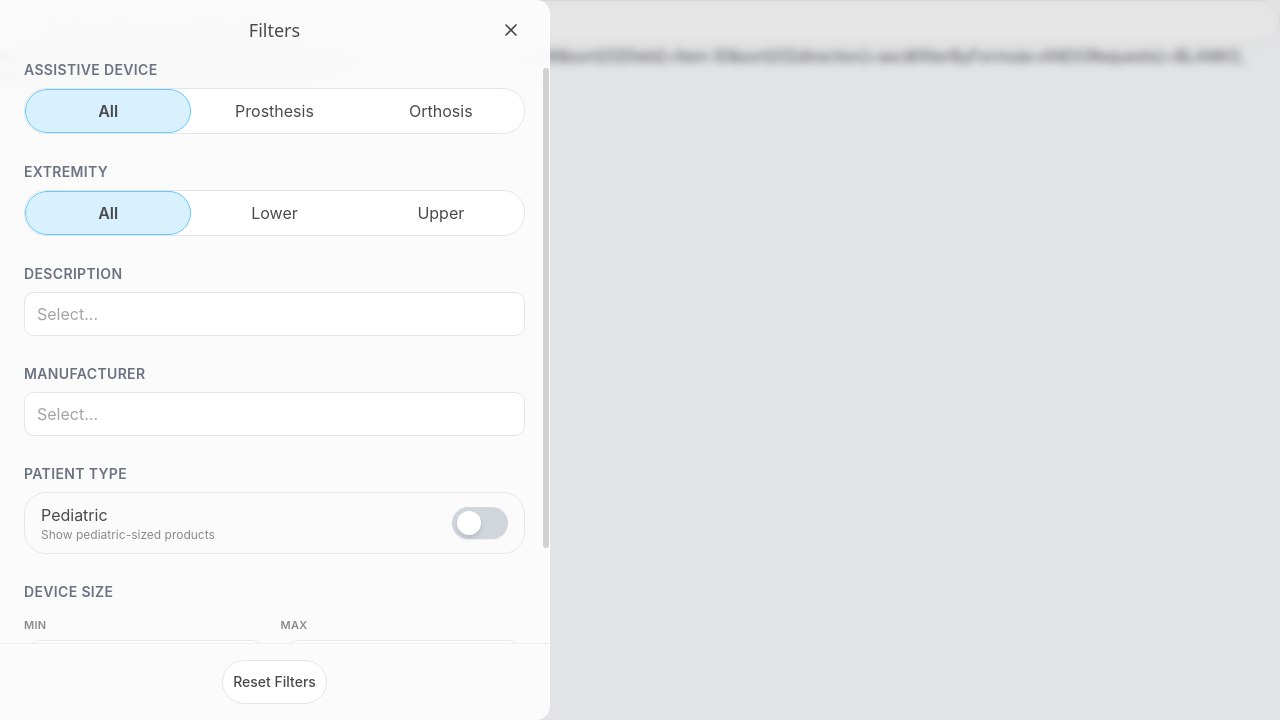
Filter integration → Airtable query › assistive device + lower extremity + part → tag, limb guide, and non-arm conditions
Expected: the text "Assistive Device" is shown, [24, 61, 158, 78]
Click the button "Prosthesis" at (274, 111), box [191, 89, 358, 133]
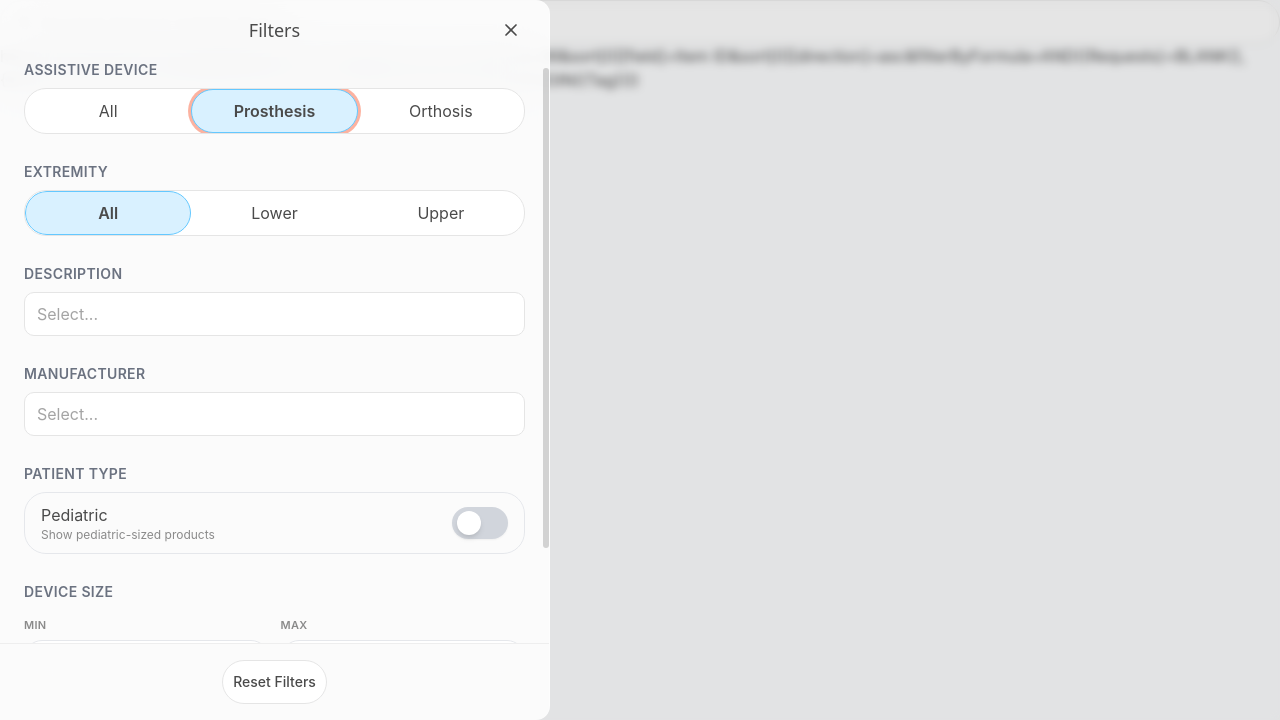
Expected: the text "Extremity" is shown, [24, 163, 108, 180]
Click the button "Lower" at (274, 213), box [191, 191, 358, 235]
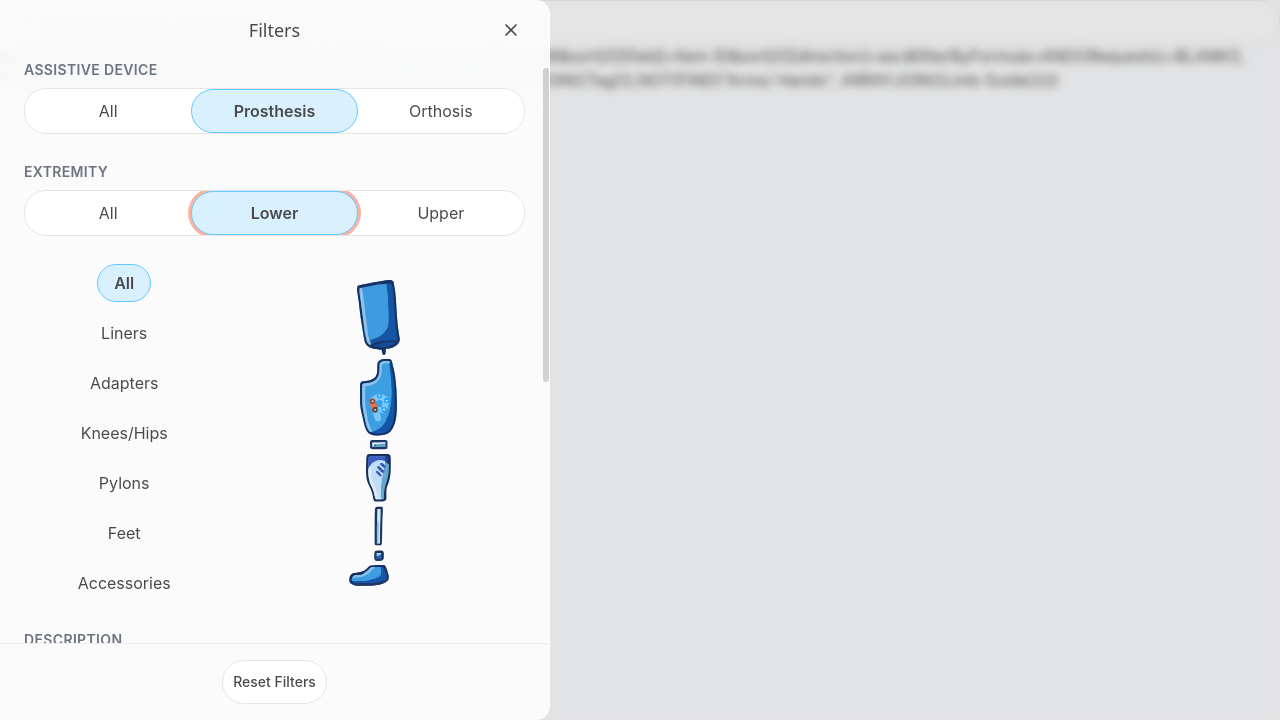
Click the button "Feet" at (124, 533), box [91, 514, 158, 552]
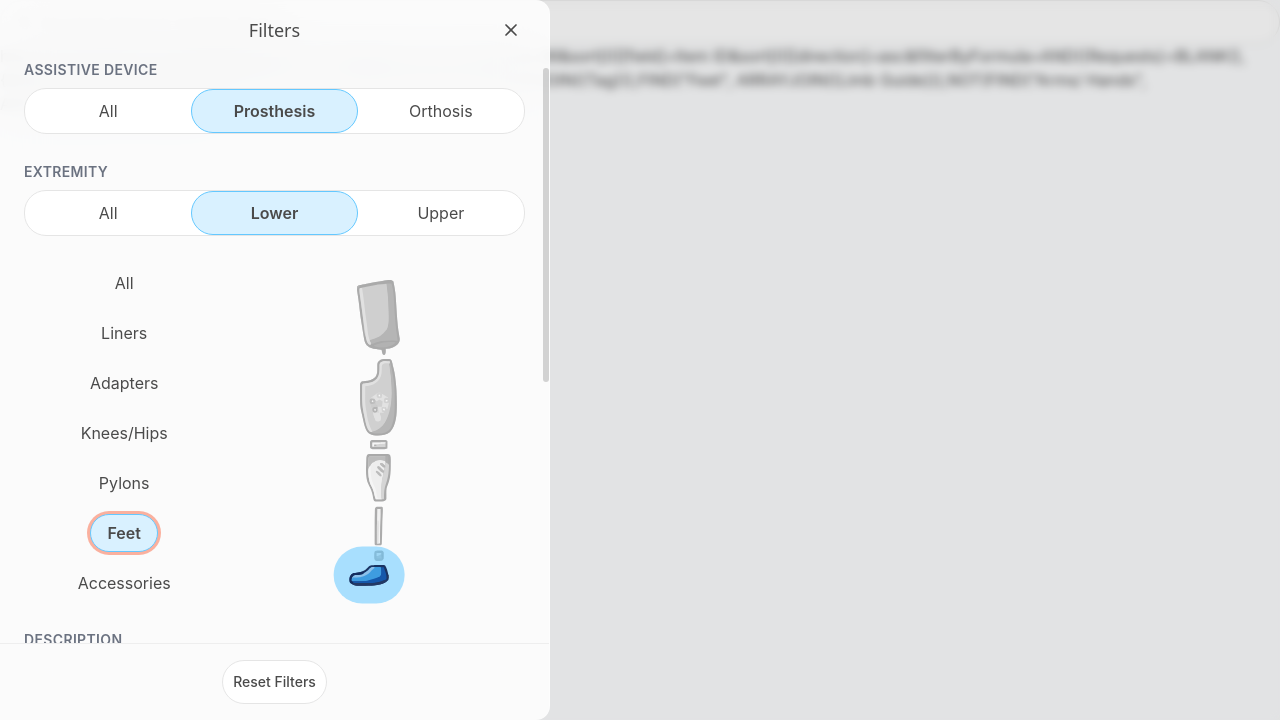
Now the text with test id "query" shows "FIND(\"Prosthesis\", ARRAYJOIN({Tag}))", box [0, 46, 1245, 114]
Now the text with test id "query" shows "NOT(FIND(\"Arms/ Hands\", ARRAYJOIN({Limb Guide})))", box [0, 46, 1245, 114]
Now the text with test id "query" shows "FIND(\"Feet\", ARRAYJOIN({Limb Guide}))", box [0, 46, 1245, 114]
